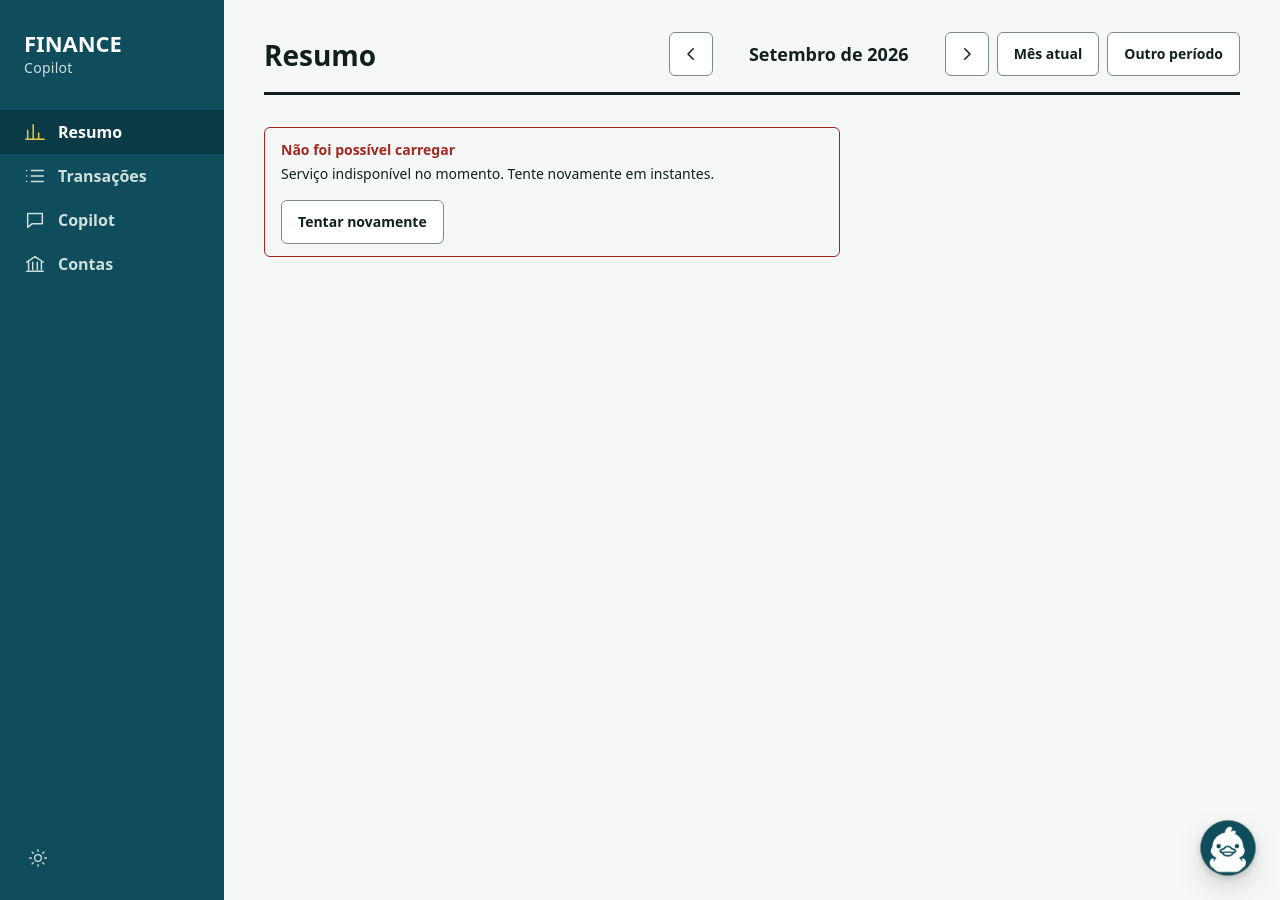
it: DashboardPage › shows an error and recovers on retry
Expected: the message shows "Serviço indisponível", x1=281 y1=164 x2=714 y2=183
Click the button "Tentar novamente": x=362, y=222 x1=281 y1=200 x2=444 y2=244
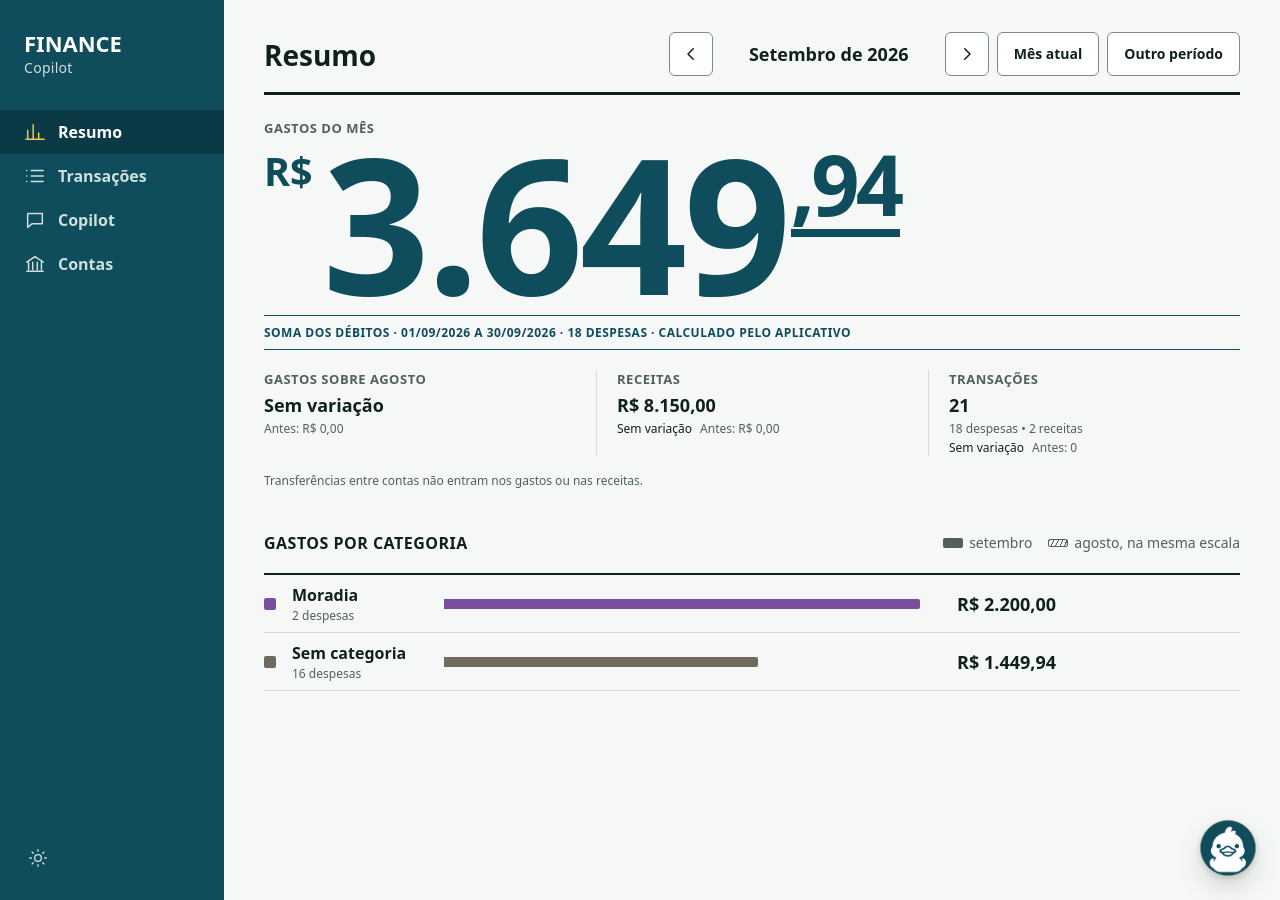
Now the message is gone
